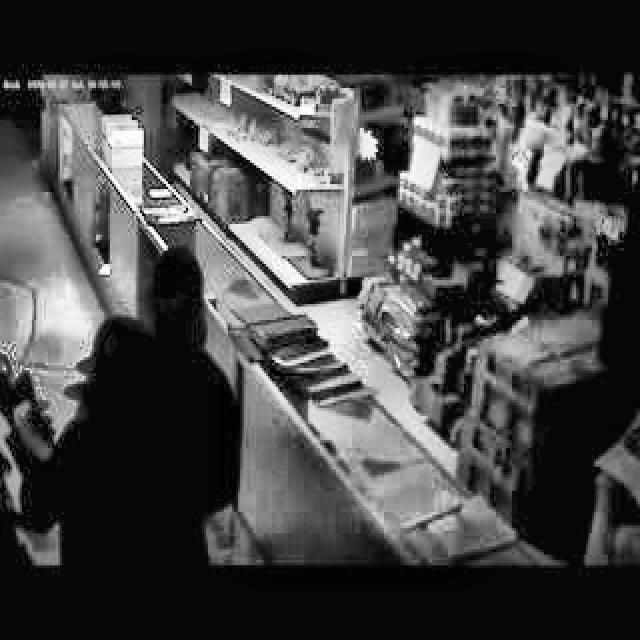burglary: (0, 245, 251, 564)
